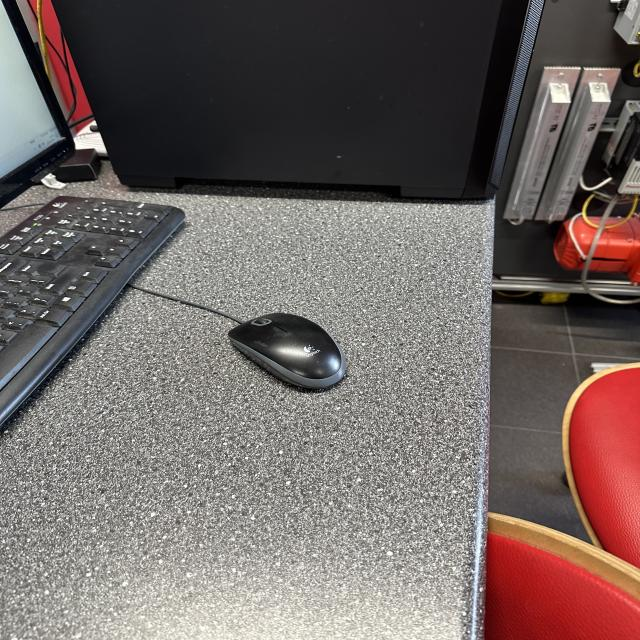mysz: (225, 306, 352, 391)
